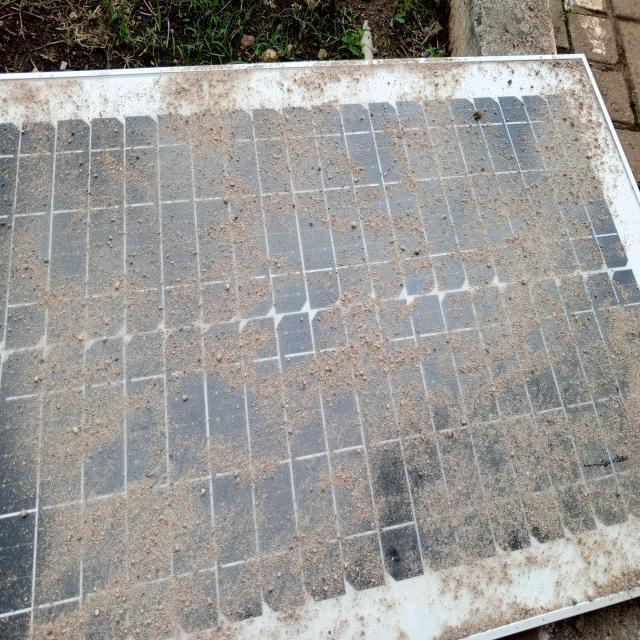Surface Contaminant: (0, 117, 639, 539)
